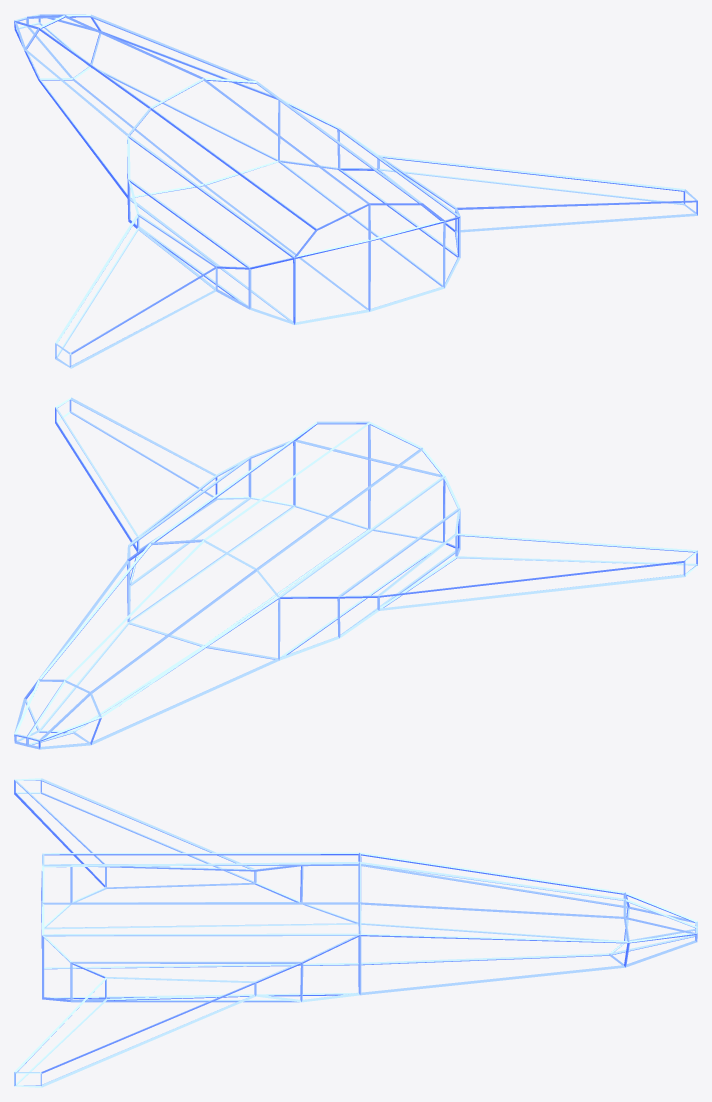
Rendered from ship.gltf.
The picture shows the model from 3 angles, top to bottom: view 1: azimuth 30°, elevation 25°; view 2: azimuth 150°, elevation 25°; view 3: azimuth 270°, elevation 25°; orthographic projection. The views are drawn at different scales.
Visible parts, largest first — view 1: ship; view 2: ship; view 3: ship.
Boxes of the visible parts, x1,y1,x2,y2 form: ship: (14,14,697,368); ship: (14,397,697,749); ship: (14,778,697,1087).
Size of the model in its own units: 6.26 by 1.07 by 6.16.
